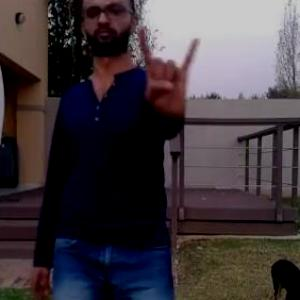takeoff-hand: (138, 19, 206, 117)
